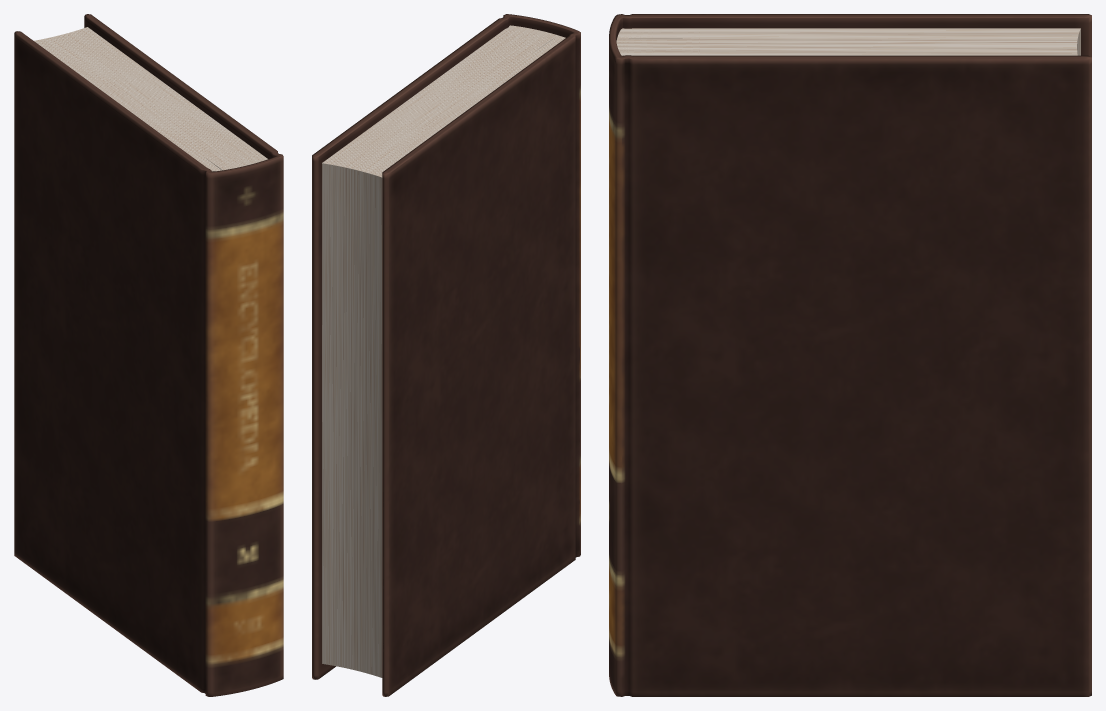
The model's file is book_encyclopedia_set_01_1k.fbx.
The picture shows the model from 3 angles, left to right: view 1: azimuth 30°, elevation 25°; view 2: azimuth 150°, elevation 25°; view 3: azimuth 270°, elevation 25°; orthographic projection. The views are drawn at different scales.
Parts seen in each view (by area): view 1: book_encyclopedia_set_01_book13; view 2: book_encyclopedia_set_01_book13; view 3: book_encyclopedia_set_01_book13.
Part boxes in pixels (x1,y1,x2,y2): book_encyclopedia_set_01_book13: (14, 14, 283, 696); book_encyclopedia_set_01_book13: (312, 14, 580, 696); book_encyclopedia_set_01_book13: (609, 14, 1091, 696).
Bounding box in the file's own units: 3.66 × 23.74 × 16.31.
